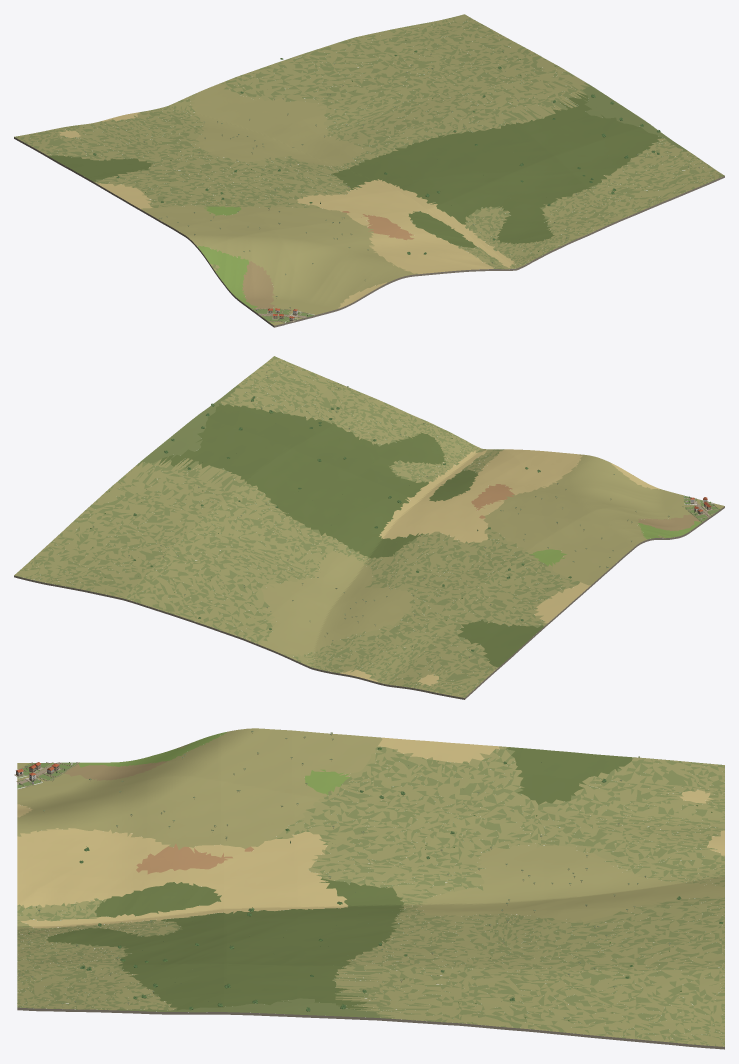
The model's file is parca_+0_-5-yakin.glb.
The picture shows the model from 3 angles, top to bottom: view 1: azimuth 30°, elevation 25°; view 2: azimuth 150°, elevation 25°; view 3: azimuth 270°, elevation 25°; orthographic projection. The views are drawn at different scales.
Visible parts, largest first — view 1: parca_+0_-5_arazi, parca_+0_-5_bitkiler; view 2: parca_+0_-5_arazi, parca_+0_-5_bitkiler; view 3: parca_+0_-5_arazi, parca_+0_-5_bitkiler.
Part boxes in pixels (bbox=[...]): parca_+0_-5_arazi: bbox=[14, 14, 724, 327]; parca_+0_-5_bitkiler: bbox=[46, 24, 710, 321]; parca_+0_-5_arazi: bbox=[14, 356, 724, 699]; parca_+0_-5_bitkiler: bbox=[36, 371, 714, 682]; parca_+0_-5_arazi: bbox=[17, 728, 724, 1049]; parca_+0_-5_bitkiler: bbox=[17, 731, 723, 1039].
Bounding box in the file's own units: 1001 × 107 × 1005.
